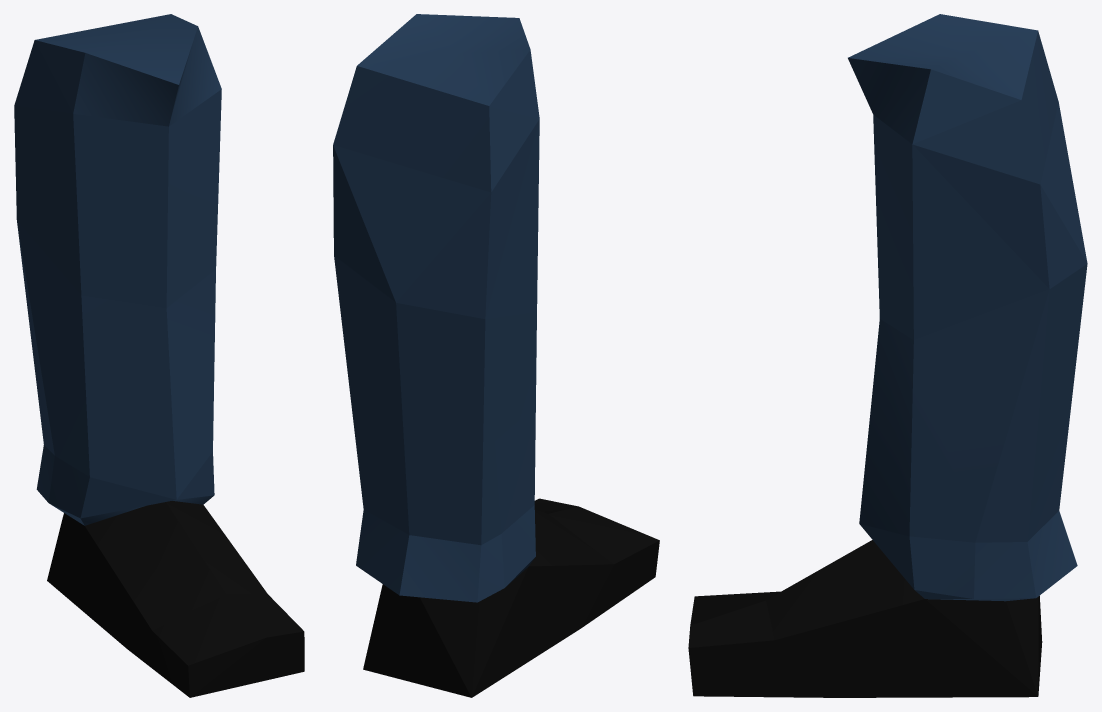
The model's file is Leg_R_Cop.glb.
3 views of the same model, side by side, from view 1: azimuth 30°, elevation 25°; view 2: azimuth 150°, elevation 25°; view 3: azimuth 270°, elevation 25° (orthographic). The views are drawn at different scales.
Parts seen in each view (by area): view 1: Knee_R_Cop; view 2: Knee_R_Cop; view 3: Knee_R_Cop.
Boxes of the visible parts, x1=… form: Knee_R_Cop: x1=14, y1=14, x2=304, y2=697; Knee_R_Cop: x1=333, y1=14, x2=659, y2=697; Knee_R_Cop: x1=688, y1=14, x2=1087, y2=697.
Bounding box in the file's own units: 0.1256 × 0.443 × 0.2554.
Materials: 1 (1 with a texture image).
